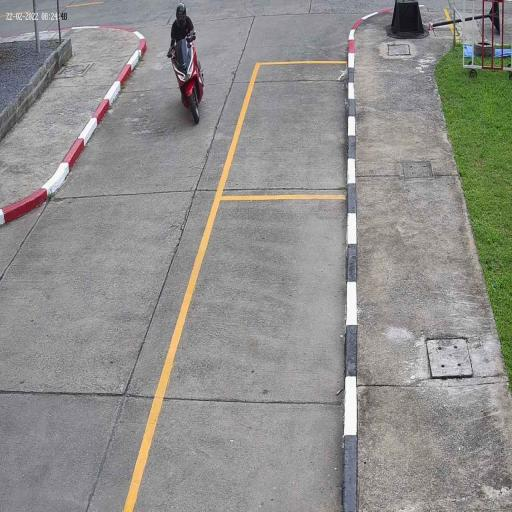motorcycle: (173, 43, 203, 125)
